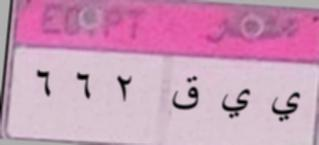2: (109, 72, 141, 102)
6: (67, 68, 99, 100), (30, 67, 57, 100)
qaaf: (170, 73, 203, 111)
yaa: (267, 81, 304, 127), (213, 83, 253, 120)
